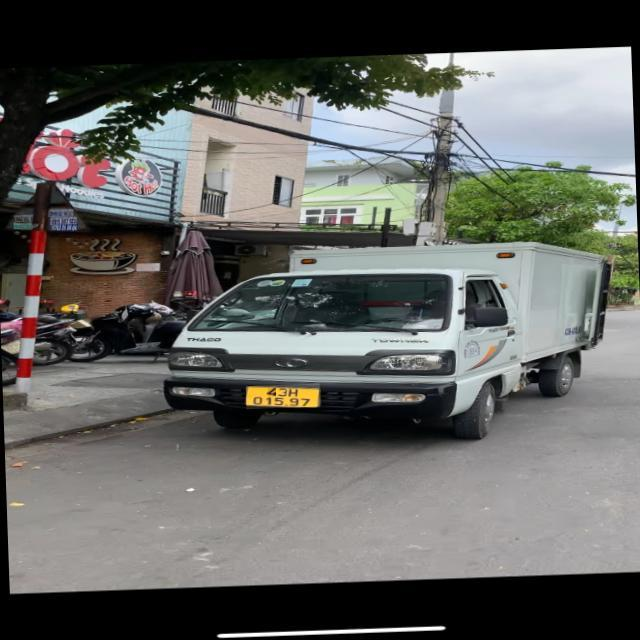car: (157, 242, 599, 449)
plate: (239, 378, 327, 417)
